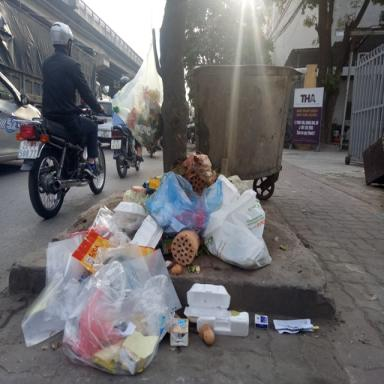plasticbag: (32, 213, 184, 374), (140, 160, 264, 272), (108, 32, 169, 148)
